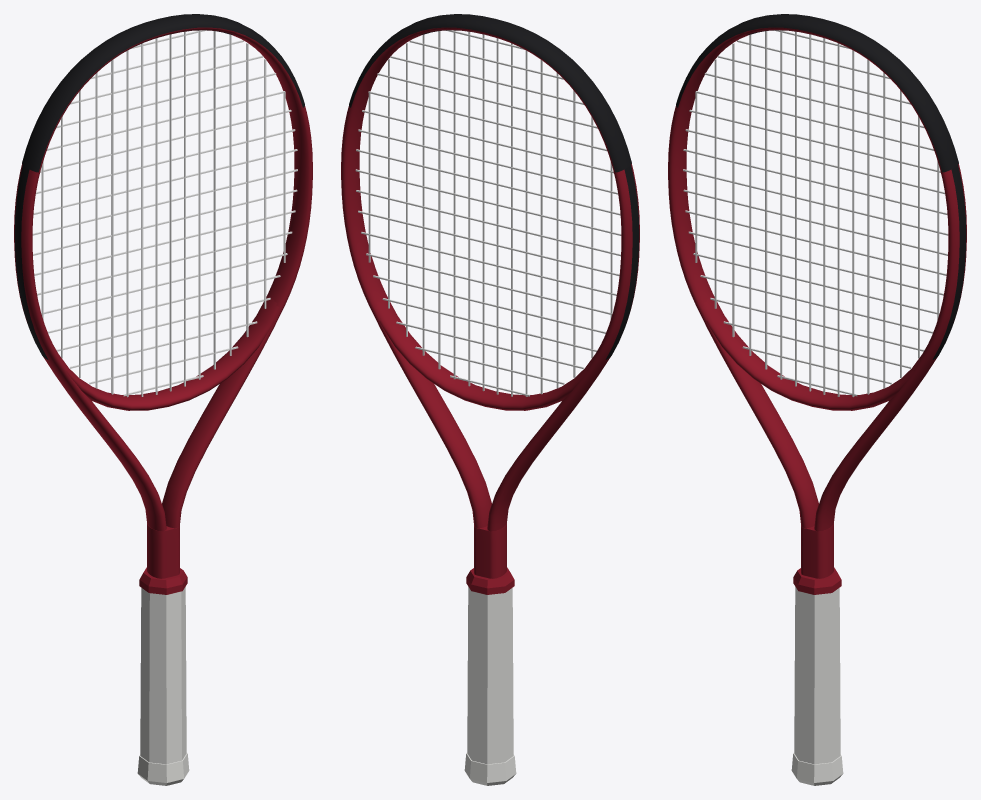
The model's file is prince-premier-105.glb.
3 views of the same model, side by side, from view 1: azimuth 30°, elevation 25°; view 2: azimuth 150°, elevation 25°; view 3: azimuth 330°, elevation 25° (orthographic).
Visible parts, largest first — view 1: frame, strings_mains, strings_crosses, grip, bumper, grommets, butt_cap, collar; view 2: frame, strings_mains, strings_crosses, grip, bumper, grommets, butt_cap, collar; view 3: frame, strings_mains, strings_crosses, grip, bumper, grommets, butt_cap, collar.
Boxes of the visible parts, <box> form: frame: <box>14,27,312,578</box>; strings_mains: <box>41,30,285,397</box>; strings_crosses: <box>32,30,297,396</box>; grip: <box>140,587,186,764</box>; bumper: <box>22,14,304,172</box>; grommets: <box>14,165,48,359</box>; butt_cap: <box>137,753,189,785</box>; collar: <box>139,567,187,594</box>; frame: <box>341,27,639,578</box>; strings_mains: <box>368,30,612,396</box>; strings_crosses: <box>355,30,621,396</box>; grip: <box>467,587,513,764</box>; bumper: <box>349,14,631,172</box>; grommets: <box>605,165,639,359</box>; butt_cap: <box>464,753,516,785</box>; collar: <box>466,567,514,594</box>; frame: <box>668,27,966,578</box>; strings_mains: <box>695,30,939,397</box>; strings_crosses: <box>683,30,948,396</box>; grip: <box>794,587,840,764</box>; bumper: <box>676,14,958,172</box>; grommets: <box>932,165,966,359</box>; butt_cap: <box>791,753,843,785</box>; collar: <box>793,567,841,594</box>.
Size of the model in its own units: 0.2777 by 0.6861 by 0.0396.
